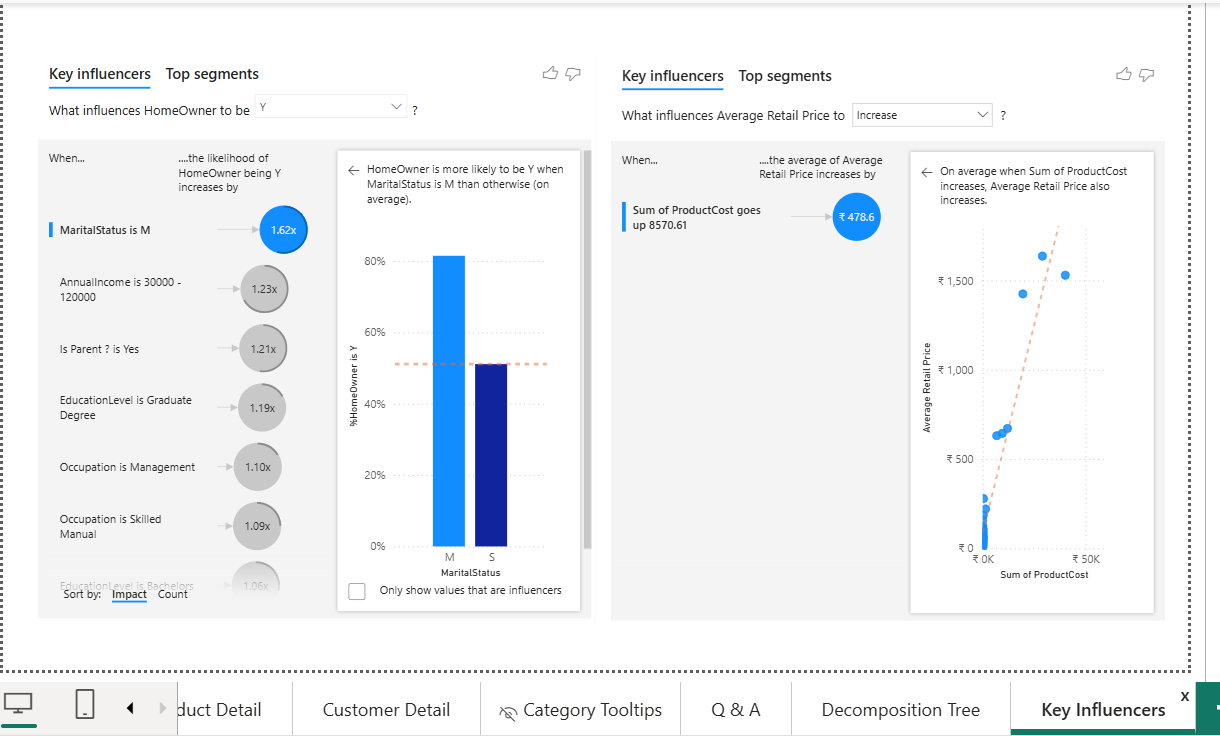

This screenshot's page, from the dashboard's own definition file:
{"tool":"powerbi","page":{"name":"Key Influencers","canvas":[1280,720],"ordinal":7},"visuals":[{"type":"keyDriversVisual","fields":{"Target":["Customer Lookups.HomeOwner"],"ExplainBy":["Customer Lookups.AnnualIncome","Customer Lookups.EducationLevel","Customer Lookups.Is Parent ?","Customer Lookups.MaritalStatus","Customer Lookups.Occupation"]},"box":[32.5,52.5,607.5,617.5],"z":0},{"type":"keyDriversVisual","fields":{"ExplainBy":["Sum(Product Lookup.ProductCost)"],"Target":["Measure Table.Average Retail Price"],"Details":["Product Subcategories Lookups.SubcategoryName"]},"box":[651,53,608,618],"z":1000}]}

Visuals, with their boxes on the page's 1280x720 design canvas (x1, y1, x2, y2). These are canvas units, not pixel positions in the 1220x736 screenshot, which may show the page scaled, cropped or inside an application window:
keyDriversVisual - Customer Lookups.HomeOwner x Customer Lookups.AnnualIncome: detection(32, 52, 640, 670)
keyDriversVisual - Sum(Product Lookup.ProductCost) x Measure Table.Average Retail Price: detection(651, 53, 1259, 671)
